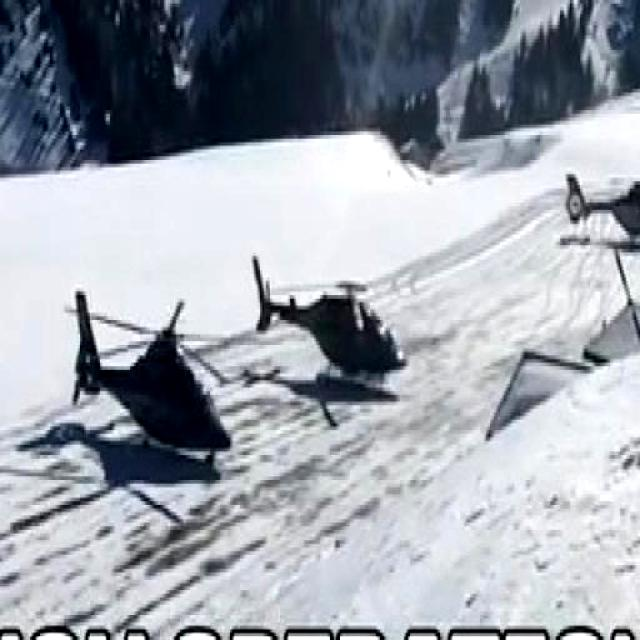drone: (64, 285, 235, 478), (246, 252, 408, 384), (559, 170, 640, 249)
